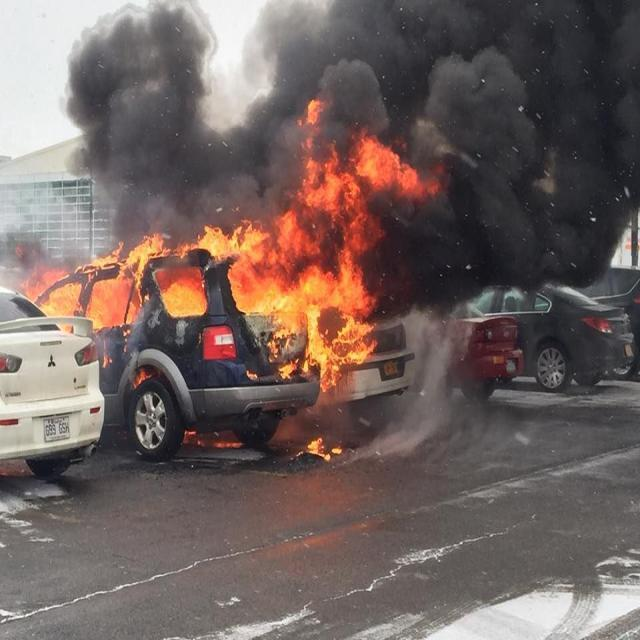Fire: (27, 222, 379, 394), (277, 96, 442, 220)
Smoke: (67, 2, 266, 216), (446, 100, 640, 285), (270, 2, 640, 92)
